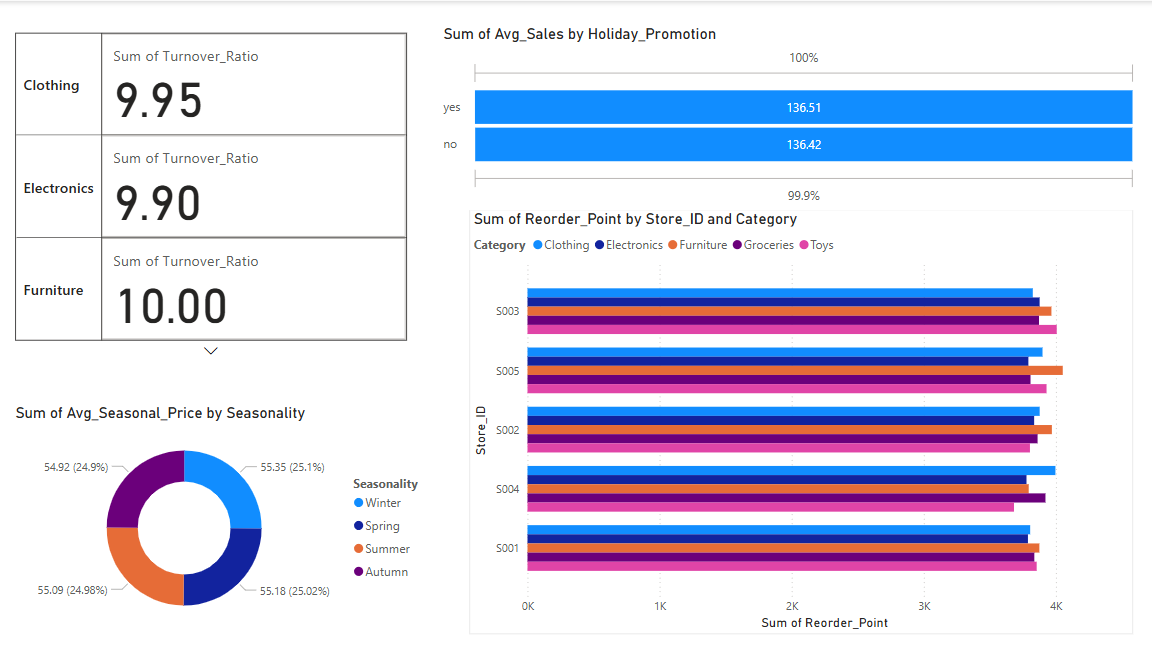

Layout of this report page (visuals, bound fields, positions):
{"tool":"powerbi","page":{"name":"Page 3","canvas":[1280,720],"ordinal":2},"visuals":[{"type":"clusteredBarChart","fields":{"Category":["reorder point.Store_ID"],"Y":["Sum(reorder point.Reorder_Point)"],"Series":["reorder point.Category"]},"box":[521.4,230,732.9,470],"z":0},{"type":"donutChart","fields":{"Category":["avg_seasonal_price.Seasonality"],"Y":["Sum(avg_seasonal_price.Avg_Seasonal_Price)"]},"box":[16,444,472,256],"z":1001},{"type":"funnel","fields":{"Category":["holiday_impact.Holiday_Promotion"],"Y":["Sum(holiday_impact.Avg_Sales)"]},"box":[488,26,776,204],"z":1002},{"type":"cardVisual","fields":{"Rows":["turnover_ratio_by_product.Category"],"Data":["Sum(turnover_ratio_by_product.Turnover_Ratio)"]},"box":[15.7,10,442.9,391.4],"z":1003}]}

Visuals, with their boxes in screenshot pixels (x1, y1, x2, y2), scaled from the page's 1280x720 canvas onto the 1152x650 screenshot:
clusteredBarChart - reorder point.Store_ID x Sum(reorder point.Reorder_Point): select_region(469, 208, 1129, 632)
donutChart - avg_seasonal_price.Seasonality x Sum(avg_seasonal_price.Avg_Seasonal_Price): select_region(14, 401, 439, 632)
funnel - holiday_impact.Holiday_Promotion x Sum(holiday_impact.Avg_Sales): select_region(439, 23, 1138, 208)
cardVisual - turnover_ratio_by_product.Category x Sum(turnover_ratio_by_product.Turnover_Ratio): select_region(14, 9, 413, 362)
